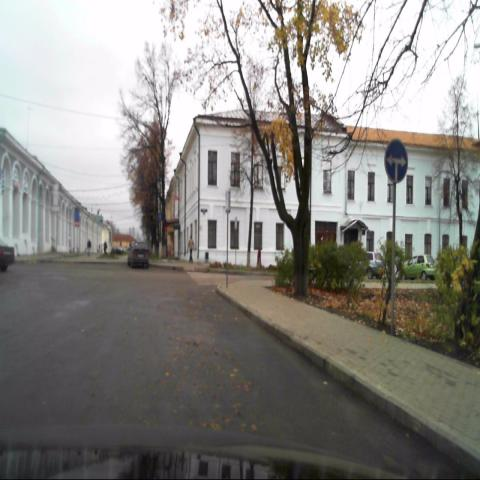4_1_6: (383, 137, 408, 187)
